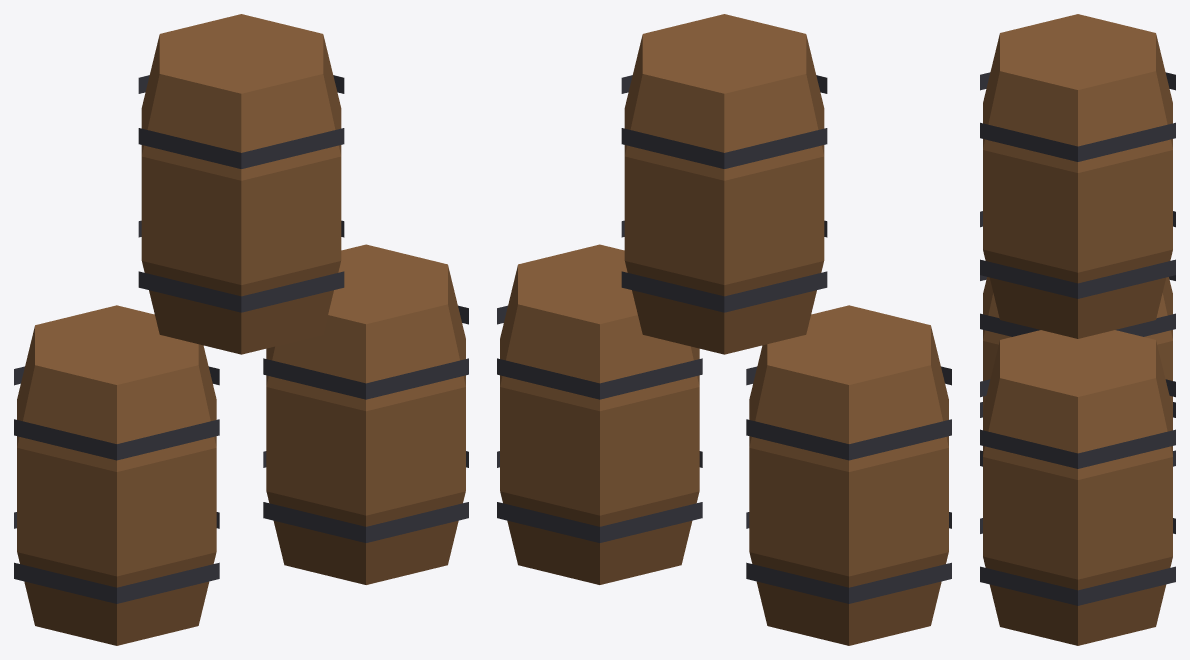
The model's file is Barrel_Stack.fbx.
The picture shows the model from 3 angles, left to right: view 1: azimuth 30°, elevation 25°; view 2: azimuth 150°, elevation 25°; view 3: azimuth 270°, elevation 25°; orthographic projection. The views are drawn at different scales.
Parts seen in each view (by area): view 1: Barrel_Stack; view 2: Barrel_Stack; view 3: Barrel_Stack.
Part boxes in pixels (bbox=[...]): Barrel_Stack: bbox=[14, 14, 468, 645]; Barrel_Stack: bbox=[497, 14, 951, 645]; Barrel_Stack: bbox=[980, 14, 1175, 645].
Bounding box in the file's own units: 1.46 × 1.6 × 0.5709.
